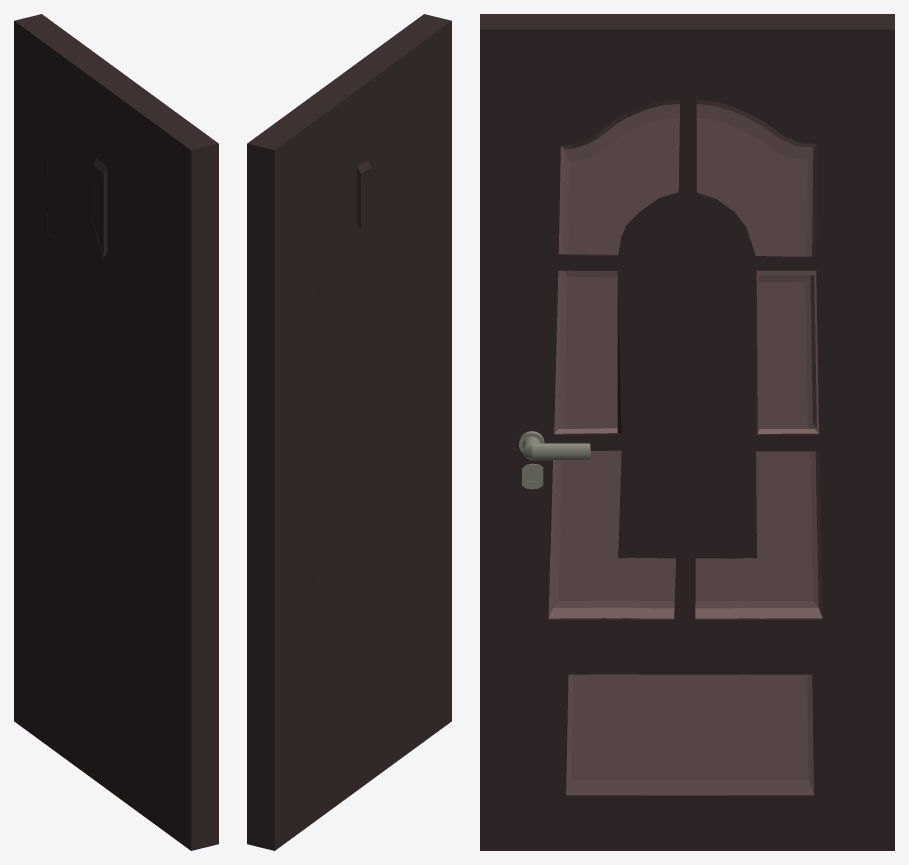
The model's file is Door version 2.fbx.
The picture shows the model from 3 angles, left to right: view 1: azimuth 30°, elevation 25°; view 2: azimuth 150°, elevation 25°; view 3: azimuth 270°, elevation 25°; orthographic projection. The views are drawn at different scales.
Parts seen in each view (by area): view 1: pCylinder7; view 2: pCylinder7; view 3: pCylinder7.
Boxes of the visible parts, x1,y1,x2,y2 form: pCylinder7: (14, 14, 218, 850); pCylinder7: (247, 14, 451, 850); pCylinder7: (480, 14, 894, 850).
Bounding box in the file's own units: 1.06 × 14.11 × 6.46.
